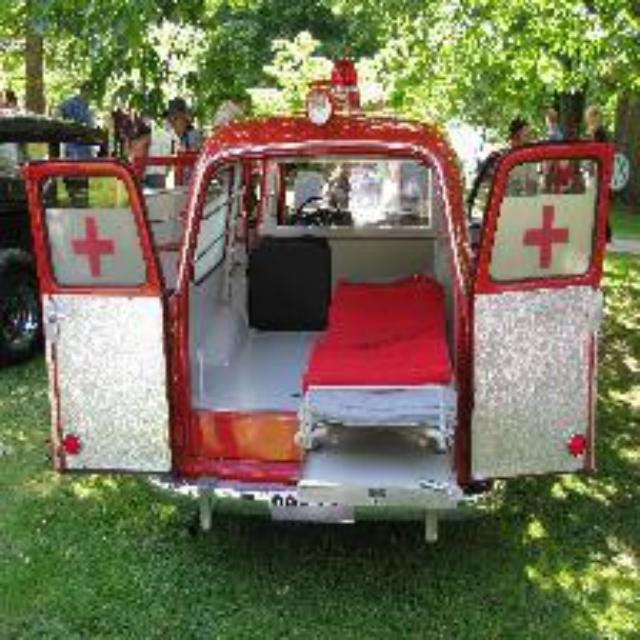emergency: (61, 104, 601, 524)
